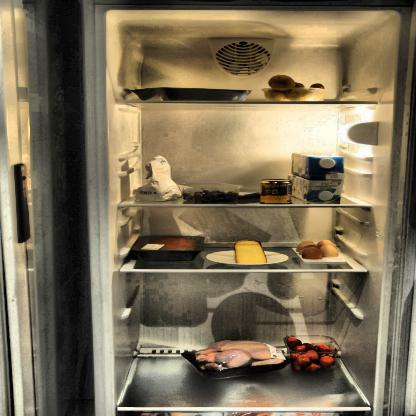beef: (132, 236, 203, 261)
blueberries: (184, 189, 238, 204)
cheese: (232, 238, 266, 266)
chicken: (184, 340, 288, 378)
corn: (260, 179, 293, 204)
eggs: (293, 238, 339, 260)
milk: (284, 174, 343, 202), (289, 154, 346, 180)
potato: (264, 75, 325, 101)
strawberries: (287, 337, 339, 374)
